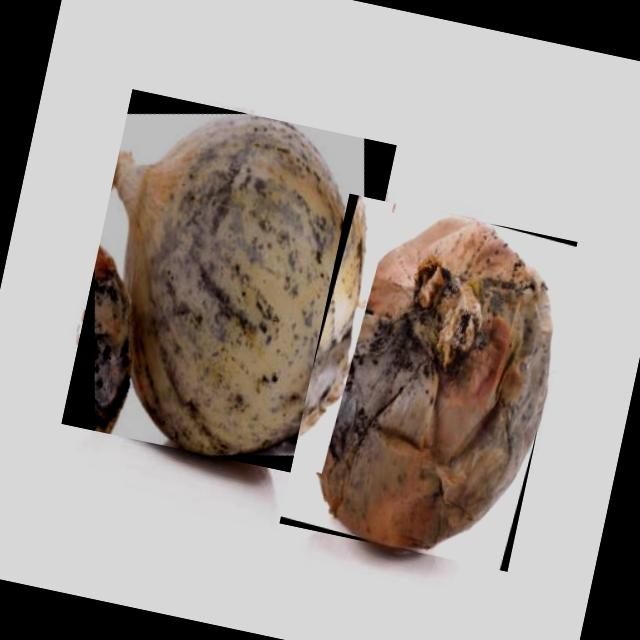rotten: (111, 113, 358, 455), (304, 217, 551, 547)
